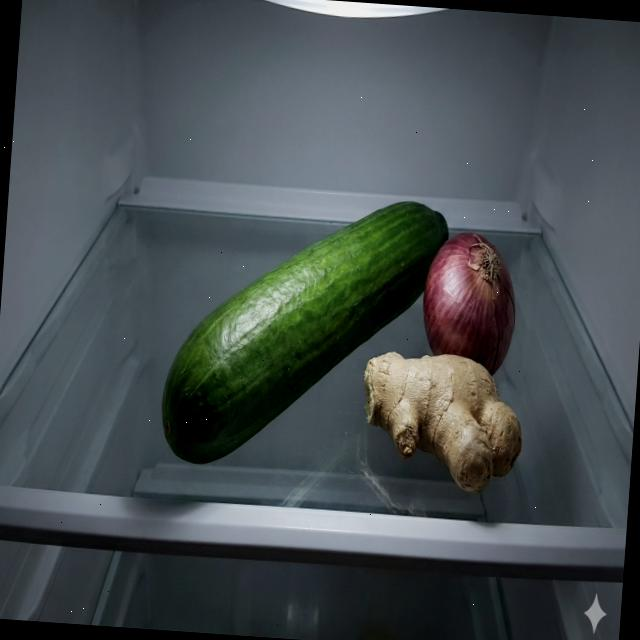cucumber: (158, 186, 449, 479)
ginger: (355, 346, 528, 499)
onion: (420, 228, 522, 378)
